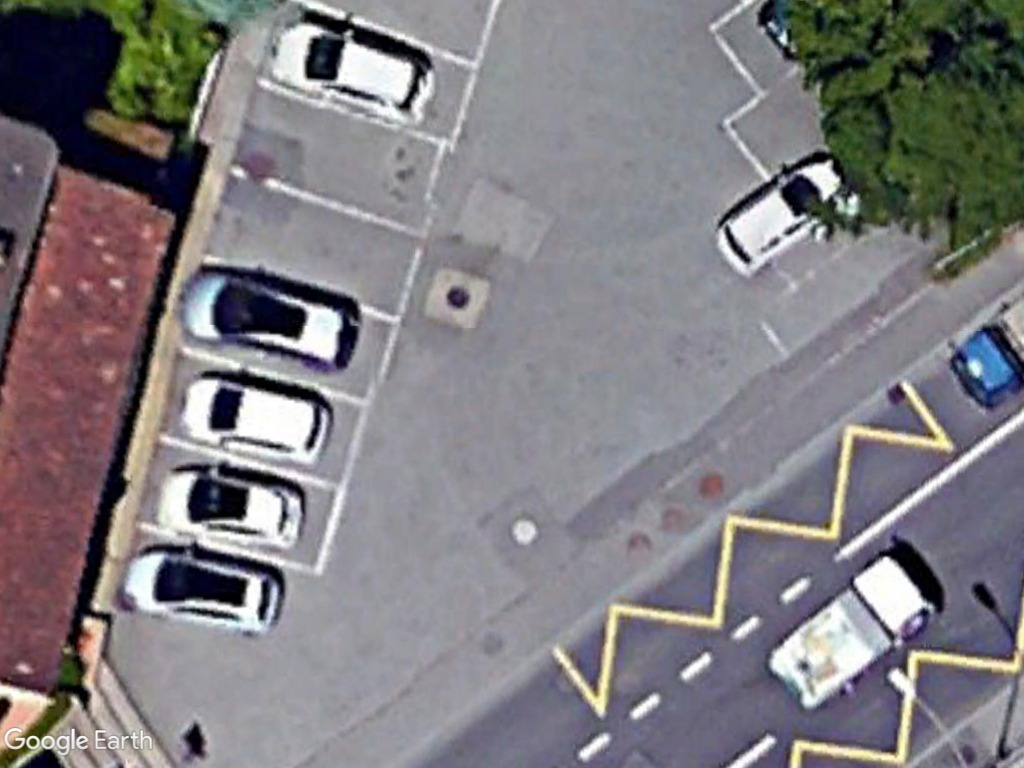car: (178, 261, 361, 372), (269, 20, 441, 125), (115, 543, 287, 637), (171, 373, 344, 464), (143, 464, 314, 555)
others: (758, 550, 951, 710)
